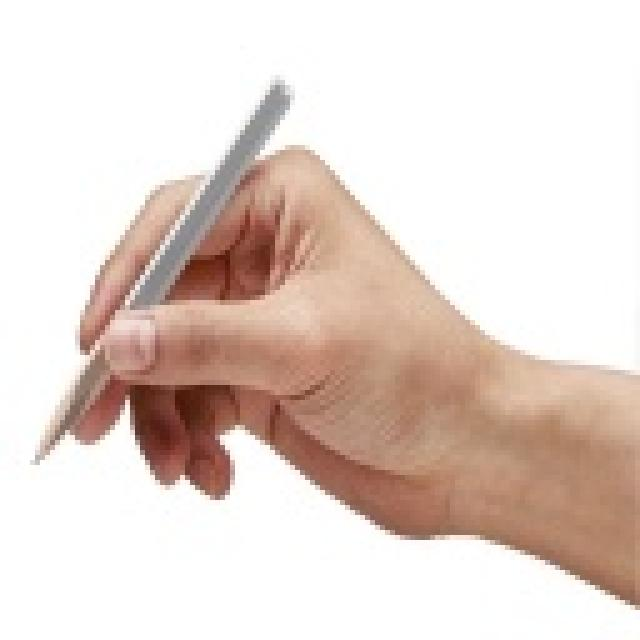pen: (24, 79, 300, 472)
